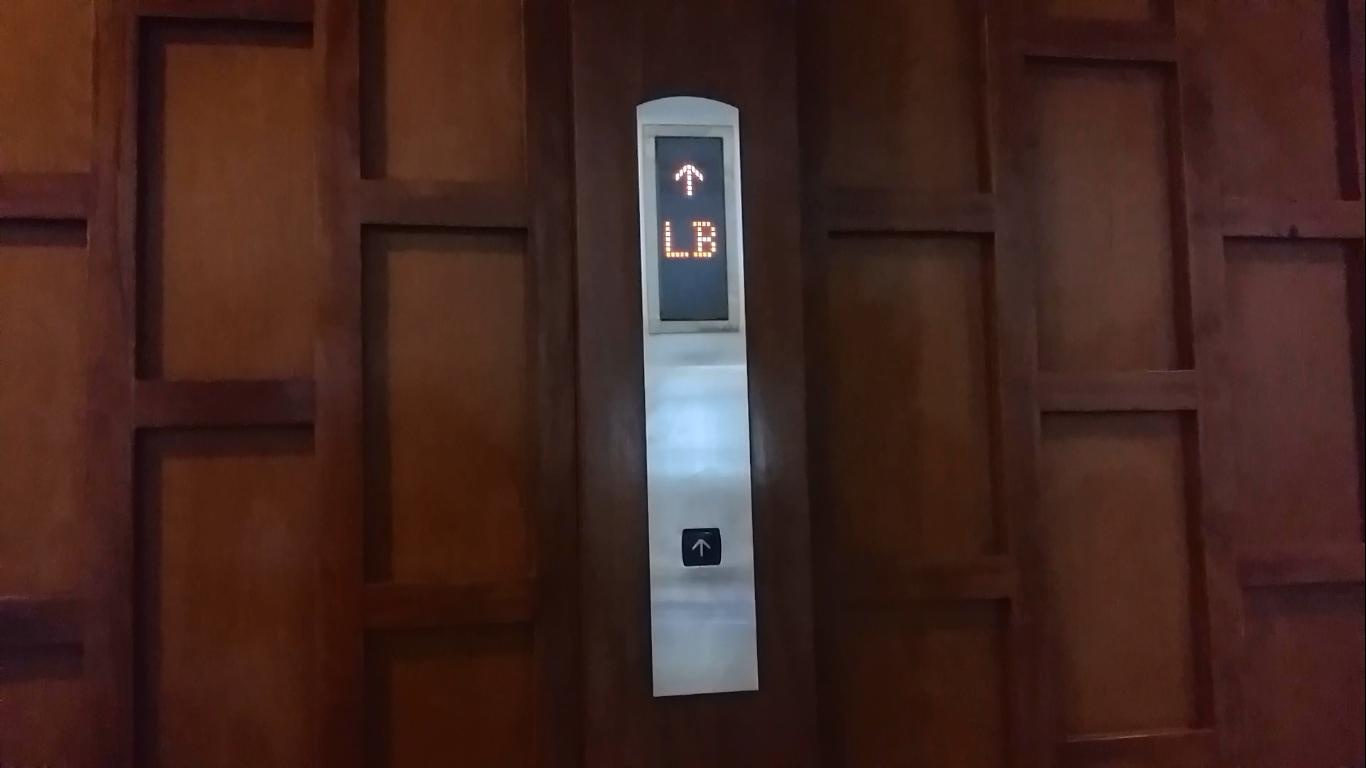led: (652, 134, 731, 324)
up: (680, 525, 726, 569)
